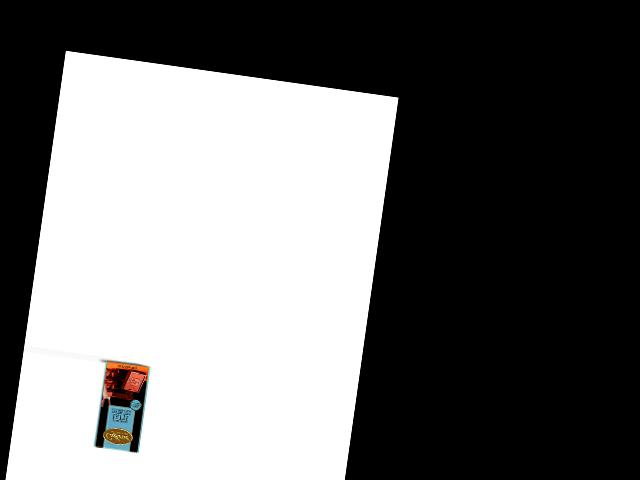chocolate: (91, 359, 151, 454)
